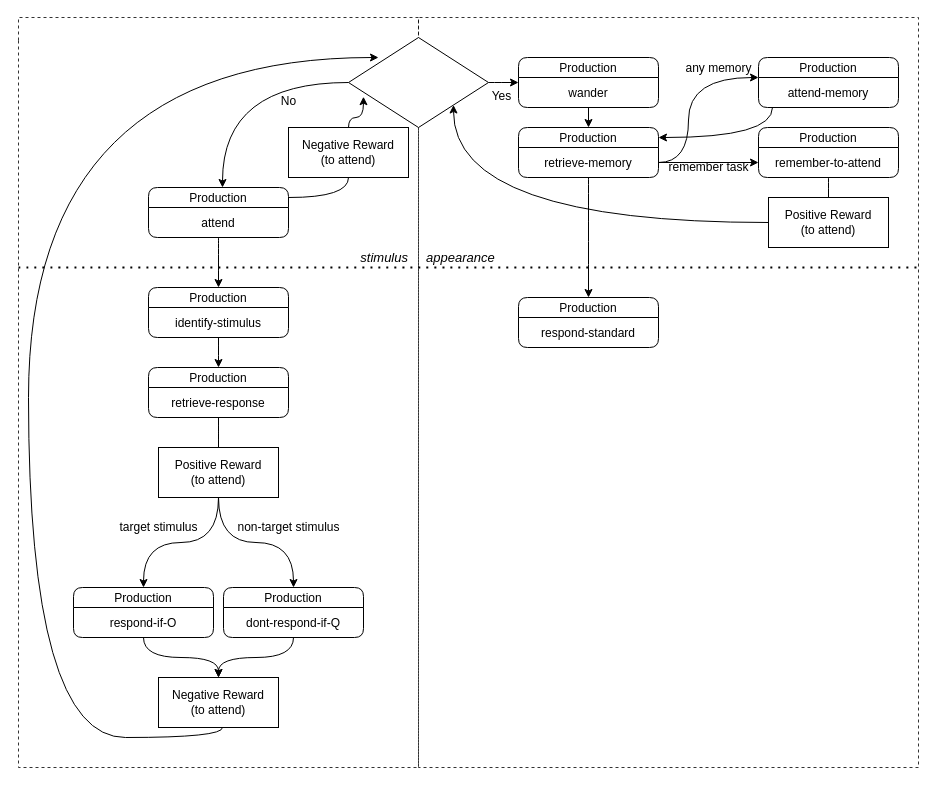
Some shapes in this 937 by 785 pixel diagram are drawn without their labels. Here are the shapes that lost their labels. From the top down, the box of each, then its label:
(348, 36, 488, 128): Attend utility < Wander utility
(18, 16, 418, 768): Attending
(418, 16, 918, 768): Wandering
